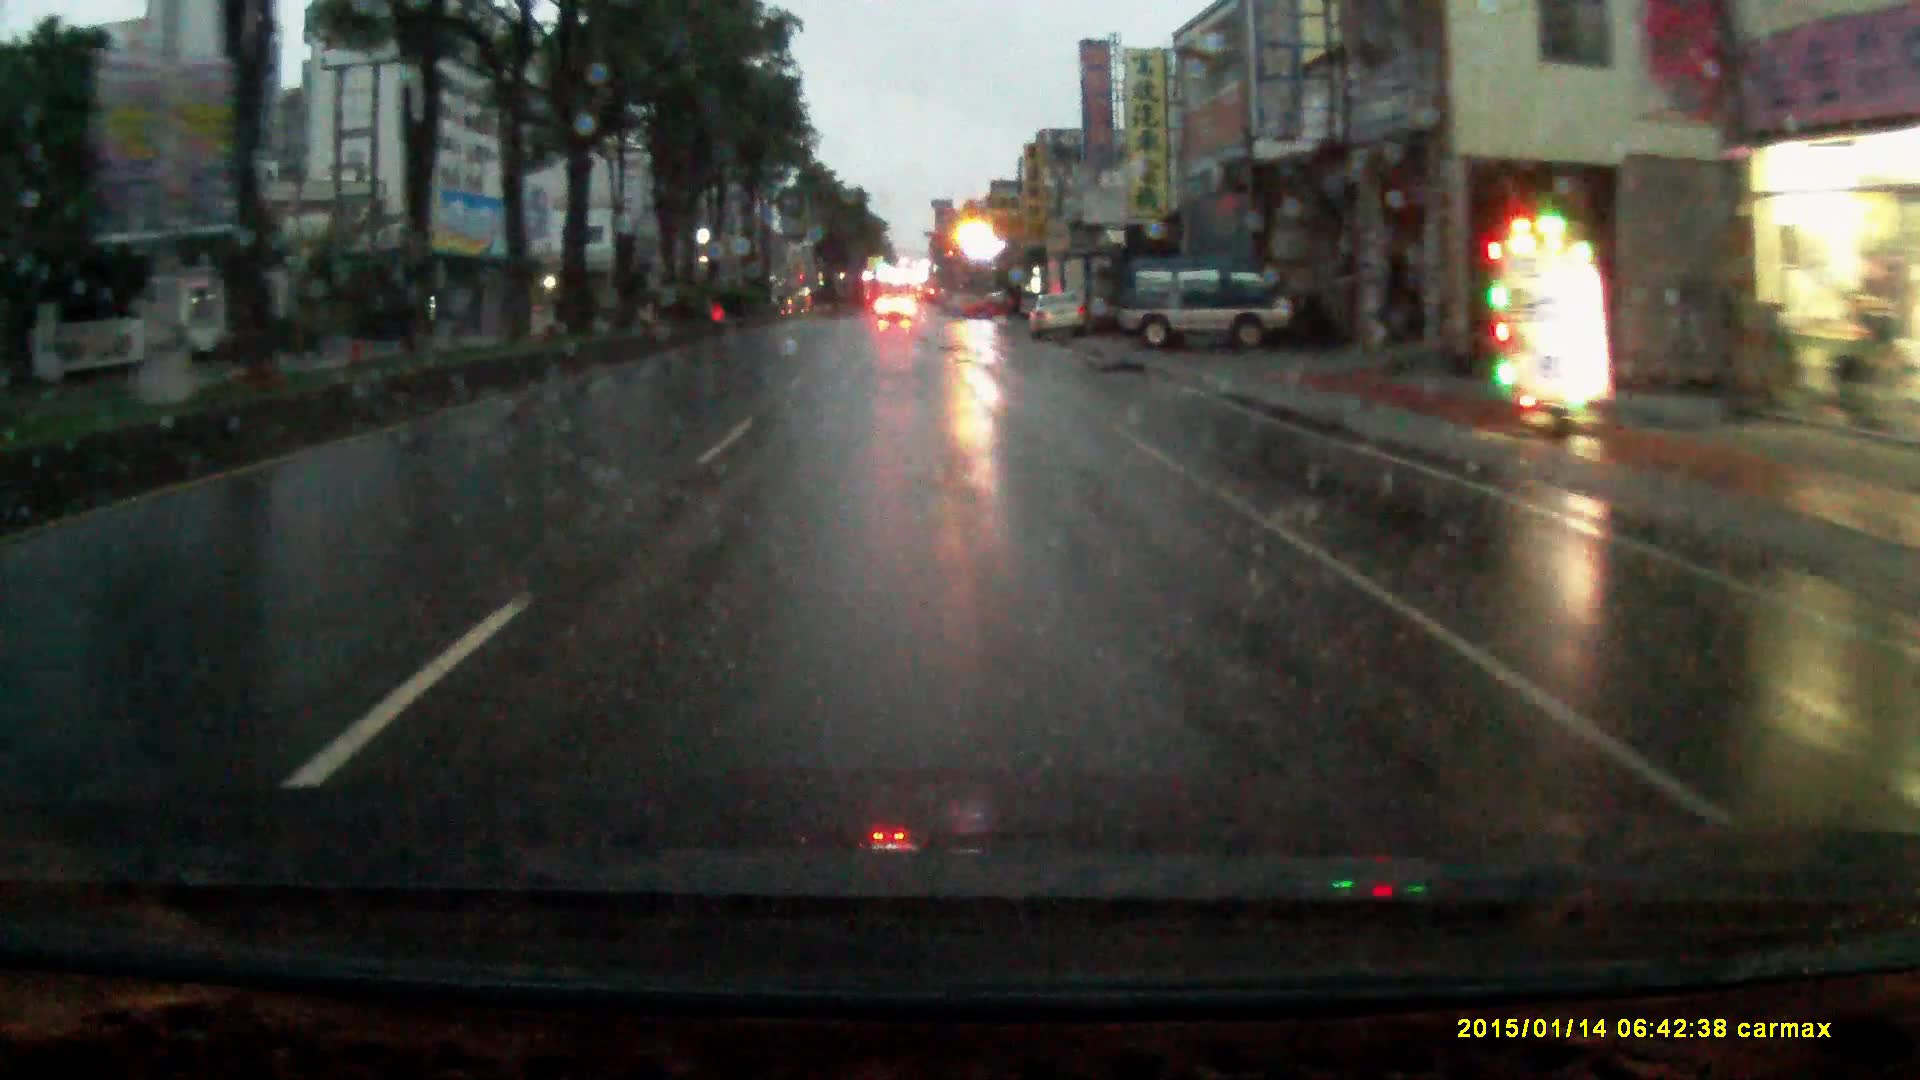vehicle: (1113, 258, 1309, 355), (1044, 248, 1118, 336), (1029, 291, 1091, 343), (876, 294, 916, 324)
